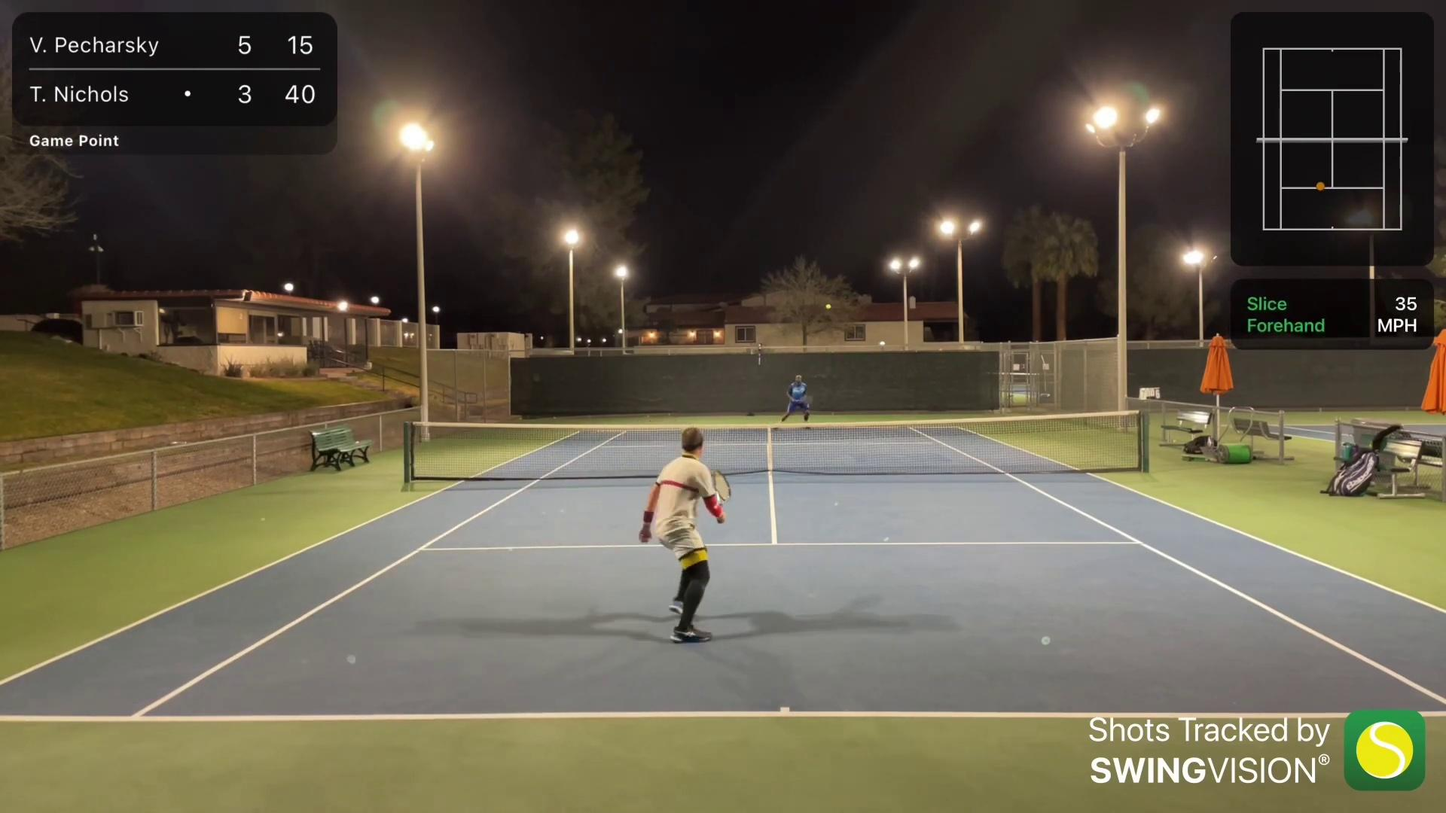ball: (826, 302, 833, 311)
